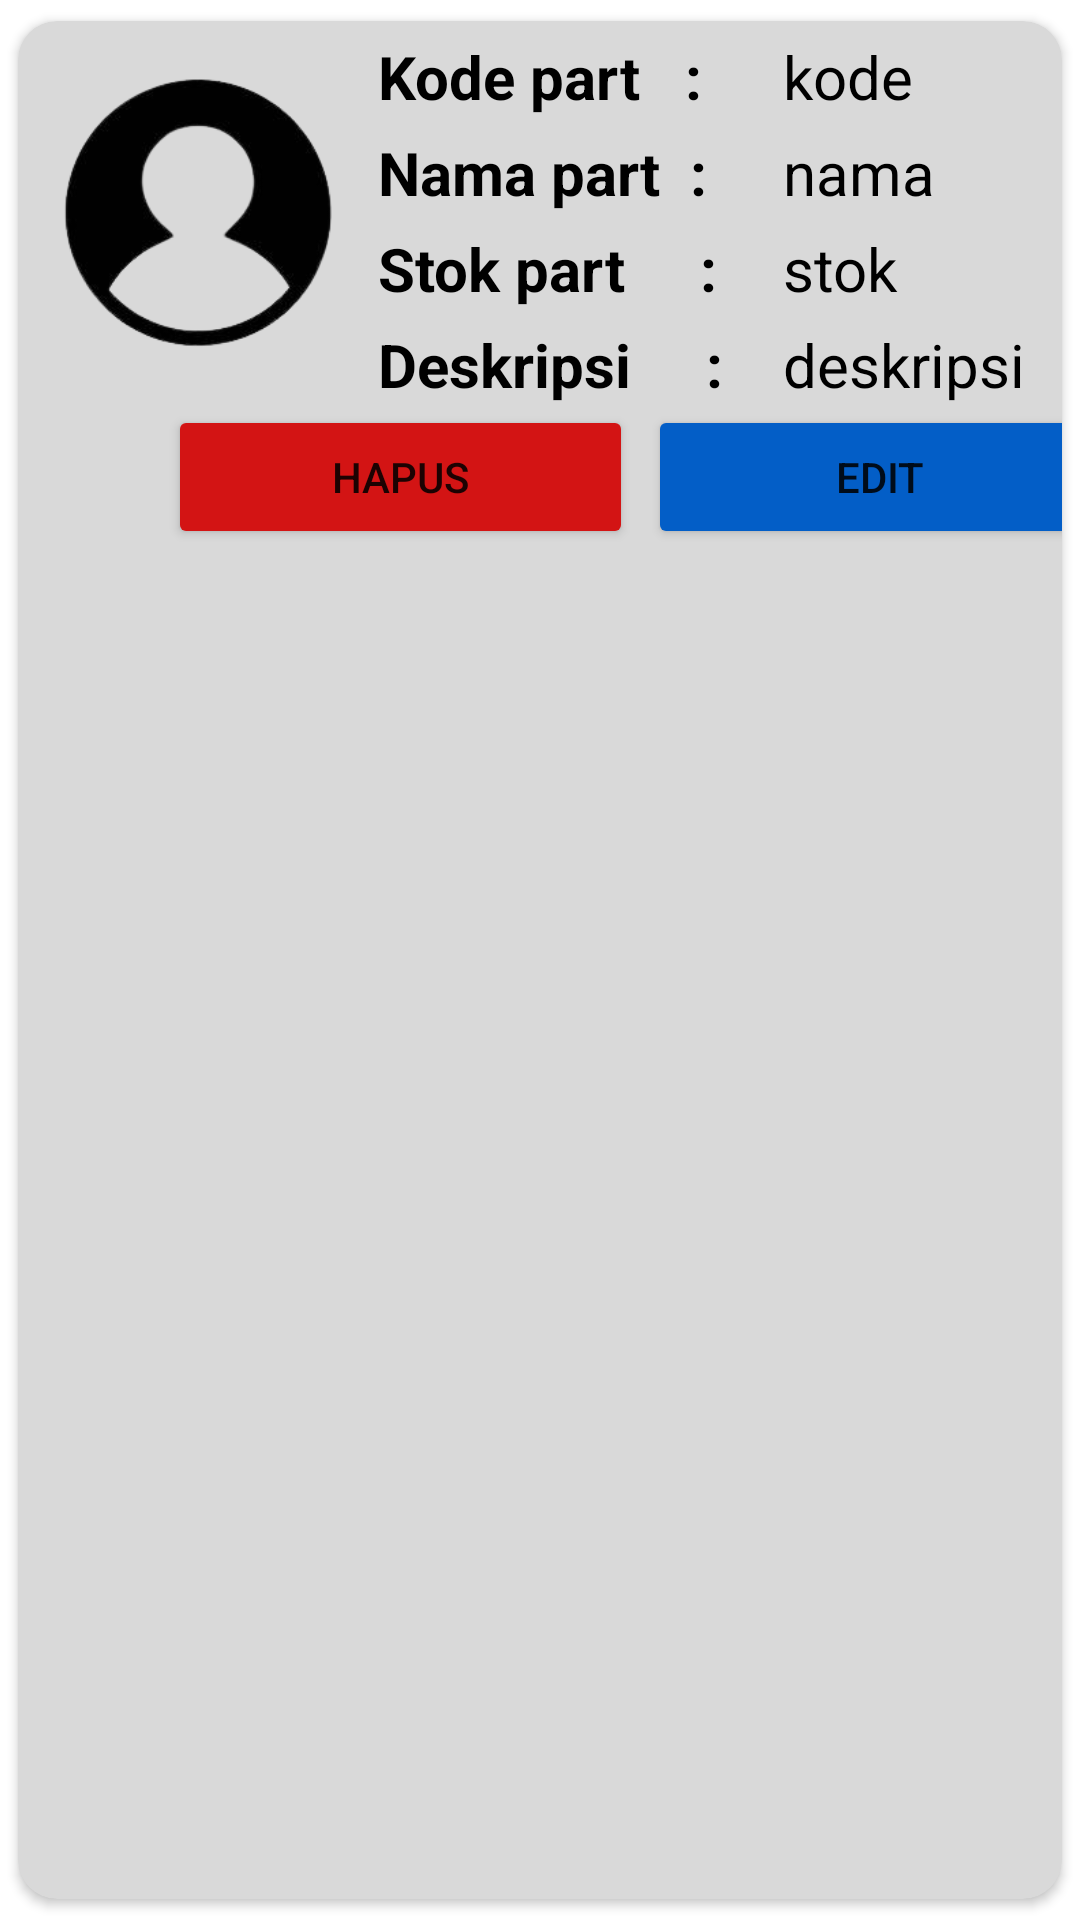

Screen size 1080px x 1920px. Icon name, then its center in pixels as (x,y):
propile: (198,212)
